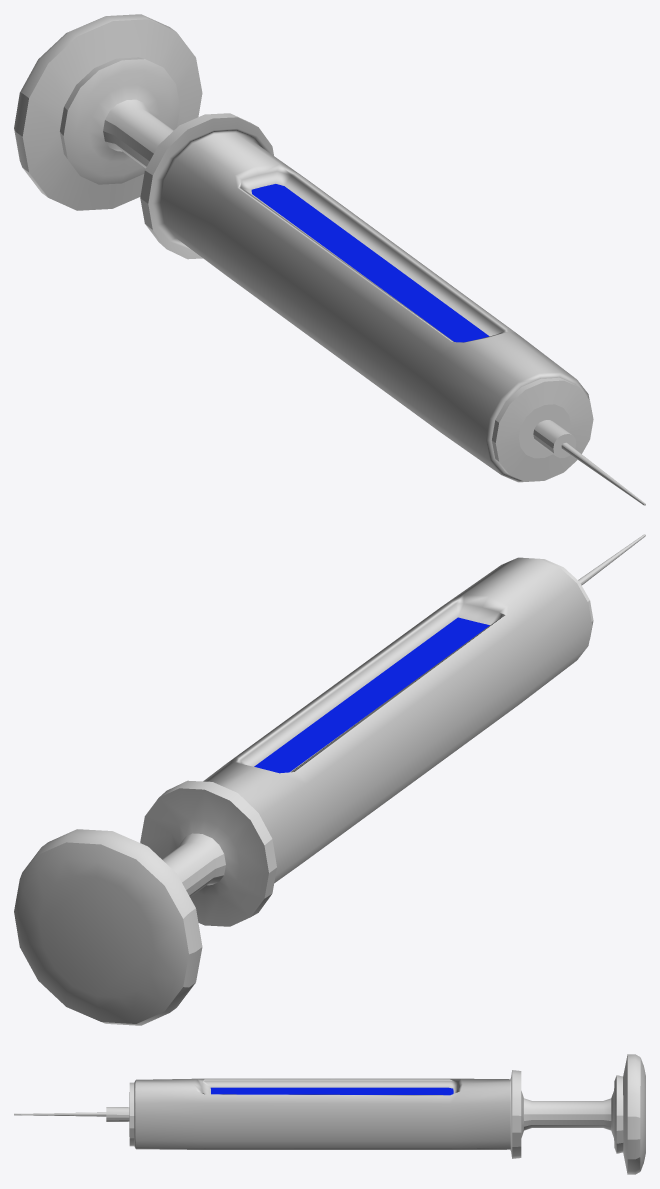
File: Doc_Needle_2.fbx
3 renders of one model, top to bottom at view 1: azimuth 30°, elevation 25°; view 2: azimuth 150°, elevation 25°; view 3: azimuth 270°, elevation 25°, orthographic. The views are drawn at different scales.
Parts seen in each view (by area): view 1: Jeringuilla1; view 2: Jeringuilla1; view 3: Jeringuilla1.
Part boxes in pixels (bbox=[...]): Jeringuilla1: bbox=[14, 14, 645, 505]; Jeringuilla1: bbox=[14, 534, 645, 1025]; Jeringuilla1: bbox=[14, 1054, 645, 1174].
Size of the model in its own units: 2.01 by 2 by 10.61.
